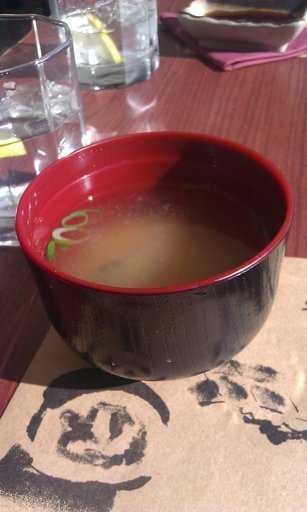soup: (33, 114, 269, 312)
